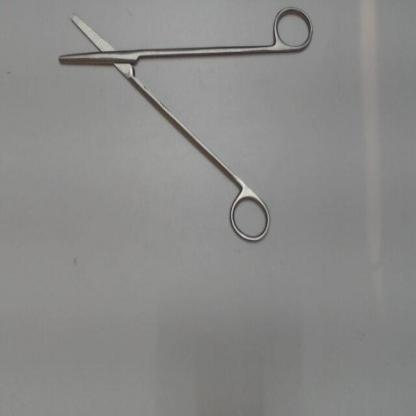9 Metzenbaum Scissors: (57, 1, 317, 247)
